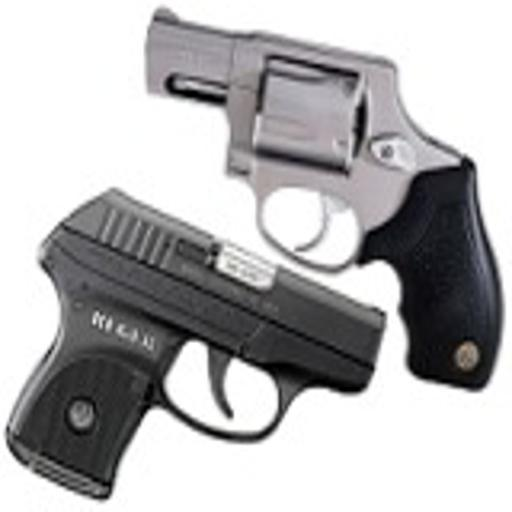Handgun: (139, 3, 504, 391), (2, 186, 386, 502)
